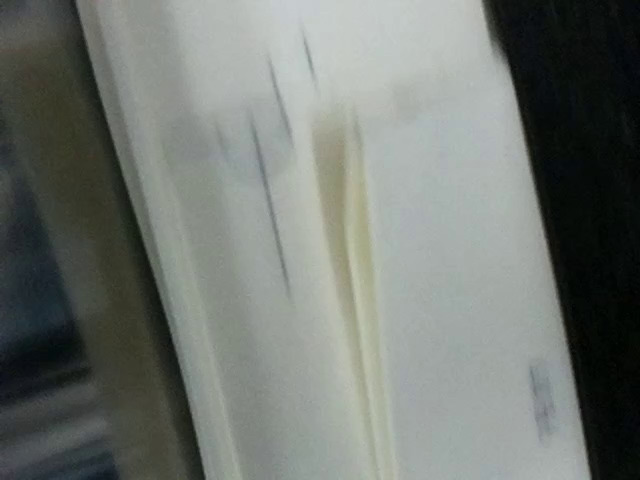not_sure: (179, 41, 307, 201)
